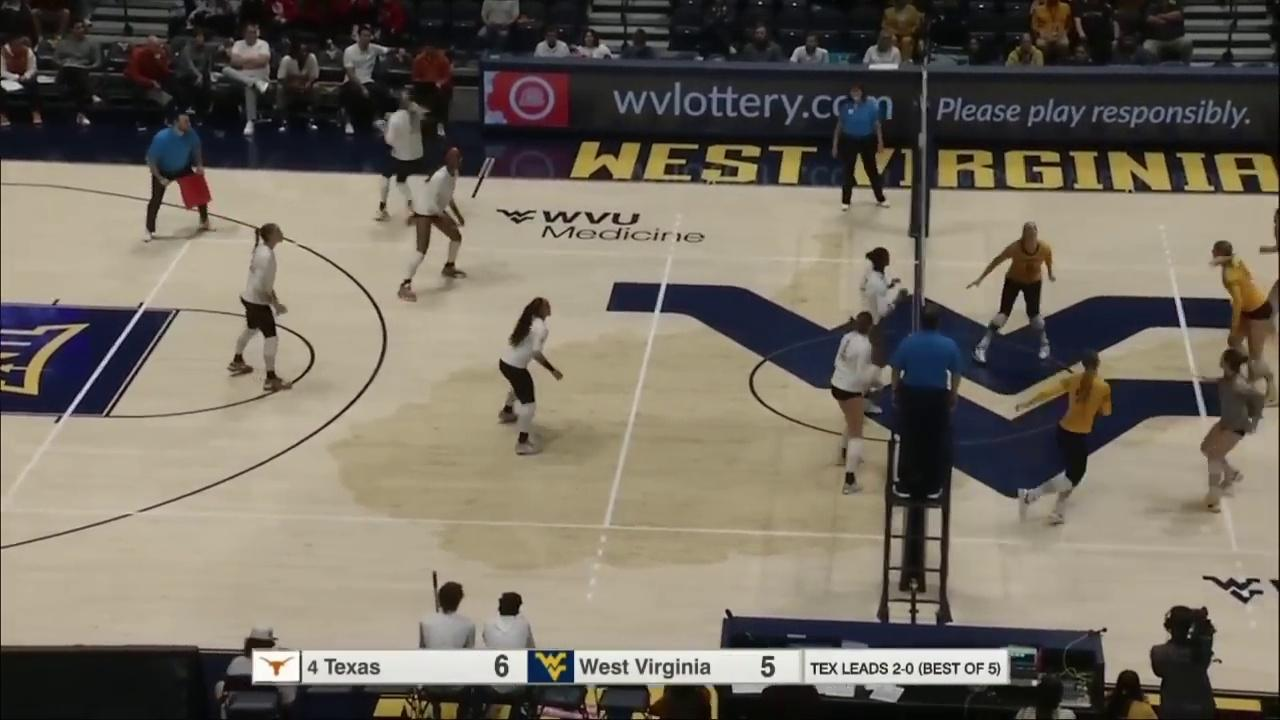player: (1015, 352, 1113, 527), (969, 221, 1062, 361), (1209, 239, 1280, 407), (228, 223, 296, 394), (1196, 348, 1264, 513), (494, 295, 563, 455), (400, 145, 468, 302), (830, 309, 881, 493), (856, 243, 899, 419), (377, 90, 431, 223)
refree: (889, 304, 961, 495), (145, 110, 213, 241), (831, 83, 887, 208)
